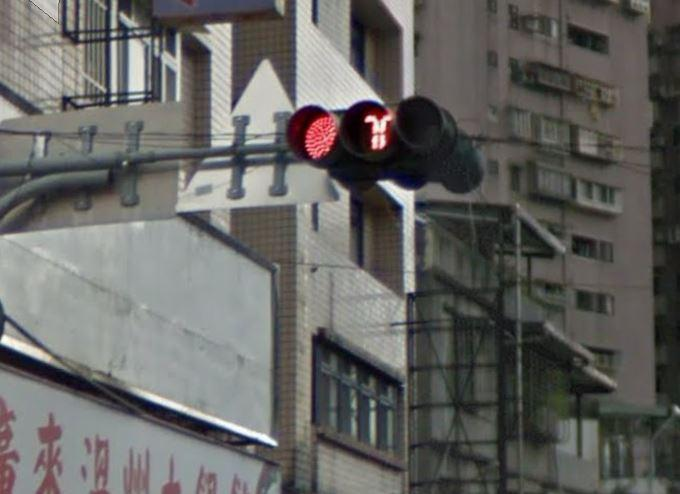red_traffic_light: (283, 94, 460, 166)
